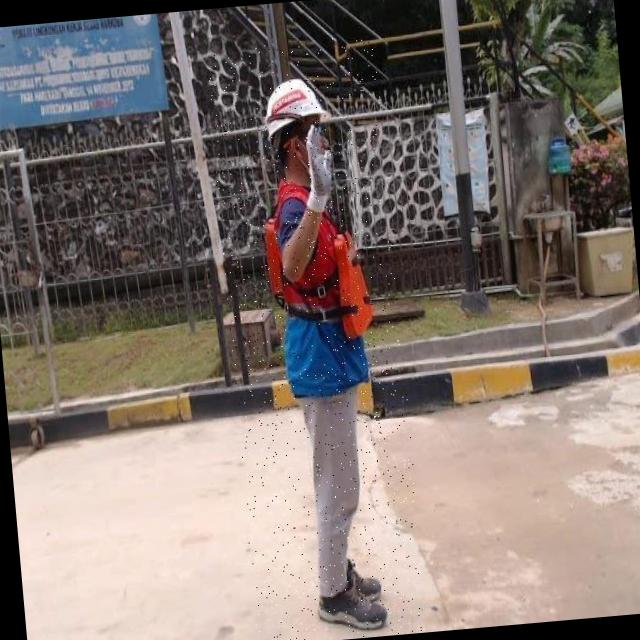hard_hat: (253, 60, 339, 150)
safety_vest: (256, 172, 384, 380)
vehicle: (205, 34, 428, 640)
work_boots: (309, 575, 394, 640), (344, 550, 392, 607)
